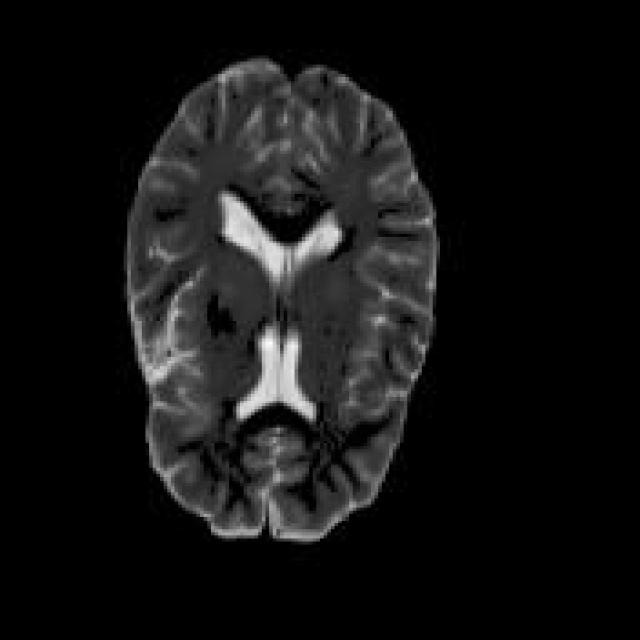parkinson: (120, 52, 440, 542)
